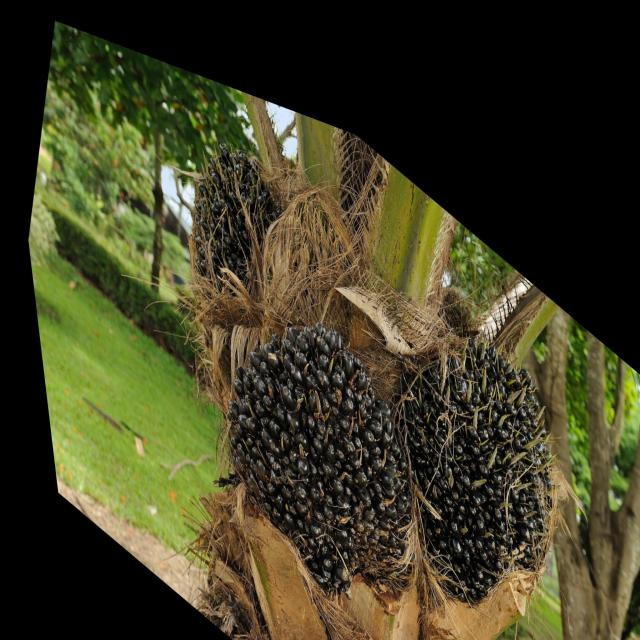Unripe: (181, 218, 448, 640), (344, 222, 590, 640), (162, 90, 298, 333)
